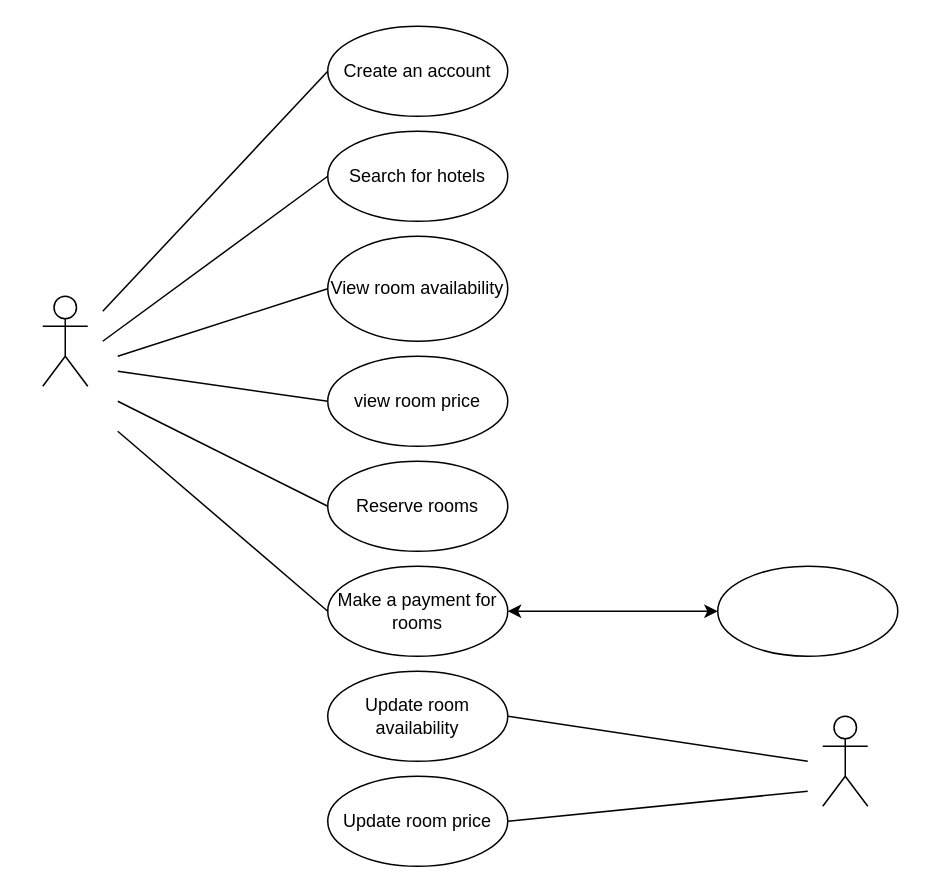
The diagram is 929 pixels wide and 893 high, and some of its shapes have lost their labels. The shapes that lost their labels are listed below. From the top down, each one's centre as x and y in pixels, then its label:
At point (64, 340): "Customer".
At point (807, 610): "Generate Invoice".
At point (844, 760): "System Admin".
